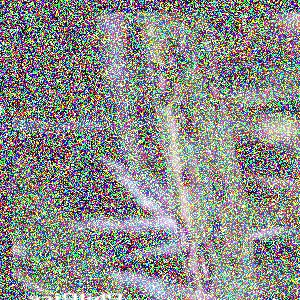Brown_Spot: (197, 72, 231, 116), (204, 156, 232, 209), (202, 215, 239, 253), (168, 210, 196, 257), (167, 101, 198, 143), (195, 240, 217, 297), (197, 26, 218, 72), (153, 59, 173, 103), (163, 41, 188, 71)
